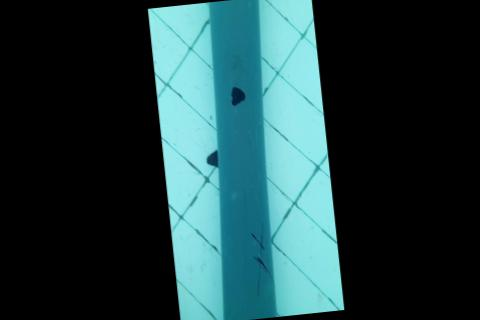kebocoran: (227, 85, 248, 108)
keretakan: (250, 224, 274, 297)
